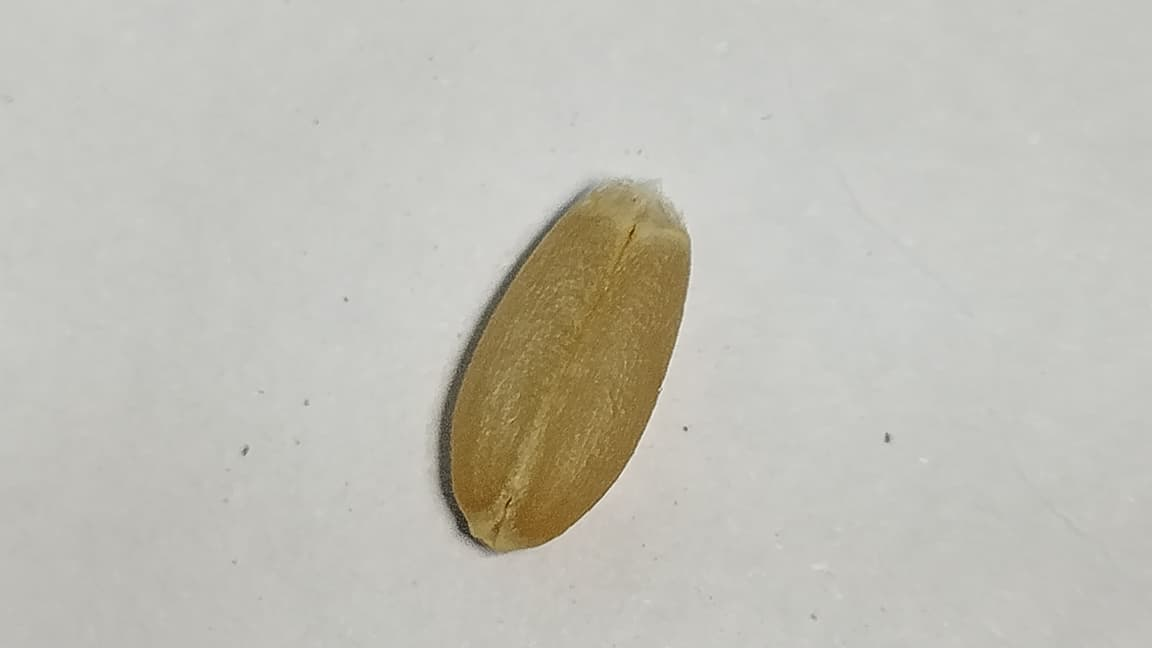healthy: (449, 176, 692, 549)
